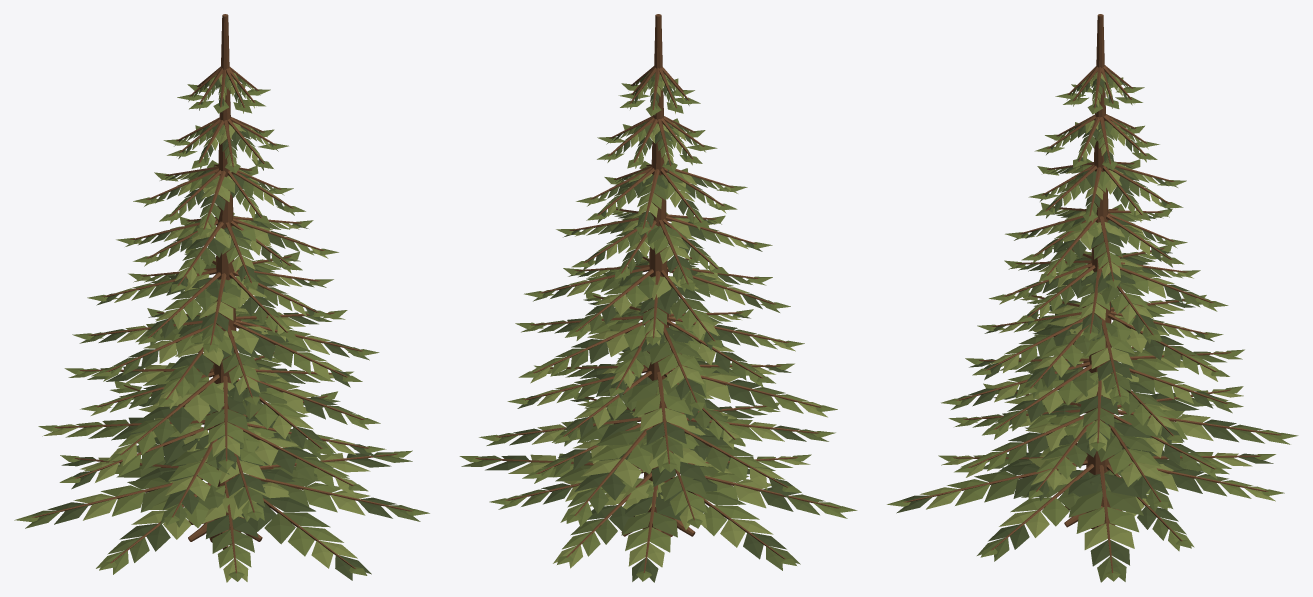
Rendered from pine-3.glb.
3 renders of one model, left to right at view 1: azimuth 30°, elevation 25°; view 2: azimuth 150°, elevation 25°; view 3: azimuth 270°, elevation 25°, orthographic. The views are drawn at different scales.
Visible parts, largest first — view 1: pine-3; view 2: pine-3; view 3: pine-3.
Boxes of the visible parts, x1,y1,x2,y2 form: pine-3: (14,14,429,582); pine-3: (459,14,857,582); pine-3: (887,14,1298,582).
Size of the model in its own units: 6.24 by 8.42 by 6.19.
